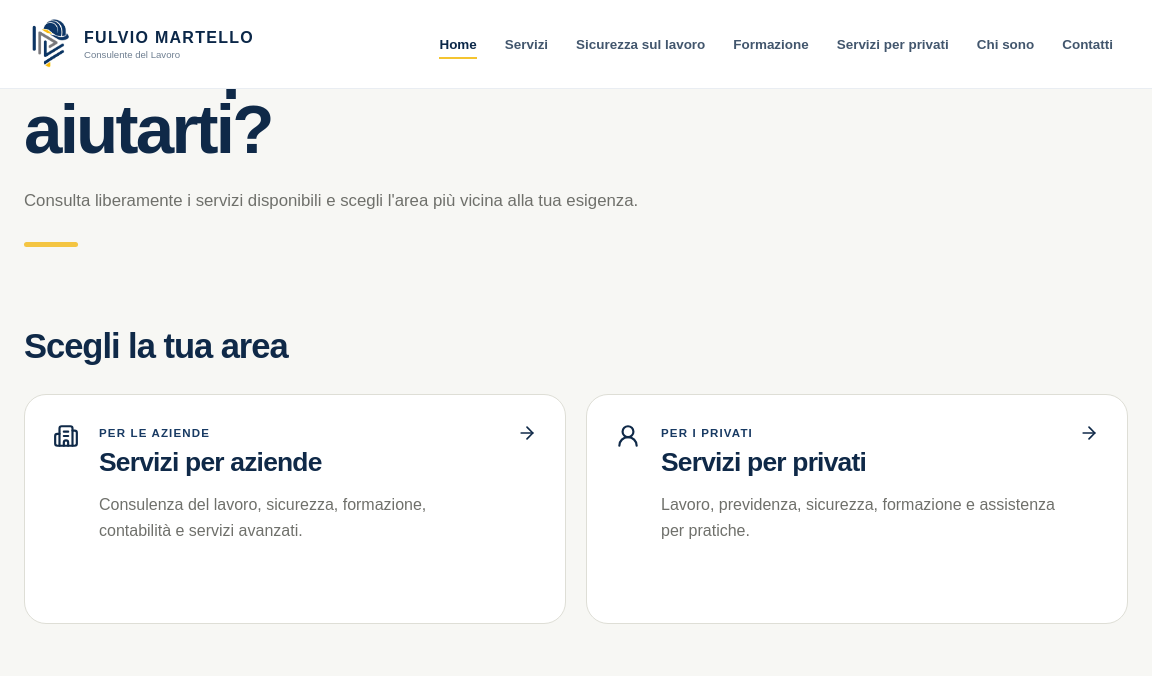
Test: ServicesPage › permette di selezionare Valutazione completa dei rischi aziendali
The image size is (1152, 676).
(page scrolled)
Step 1. Click the button "Servizi per aziende" → [295, 509], box [24, 394, 566, 624]
(page scrolled)
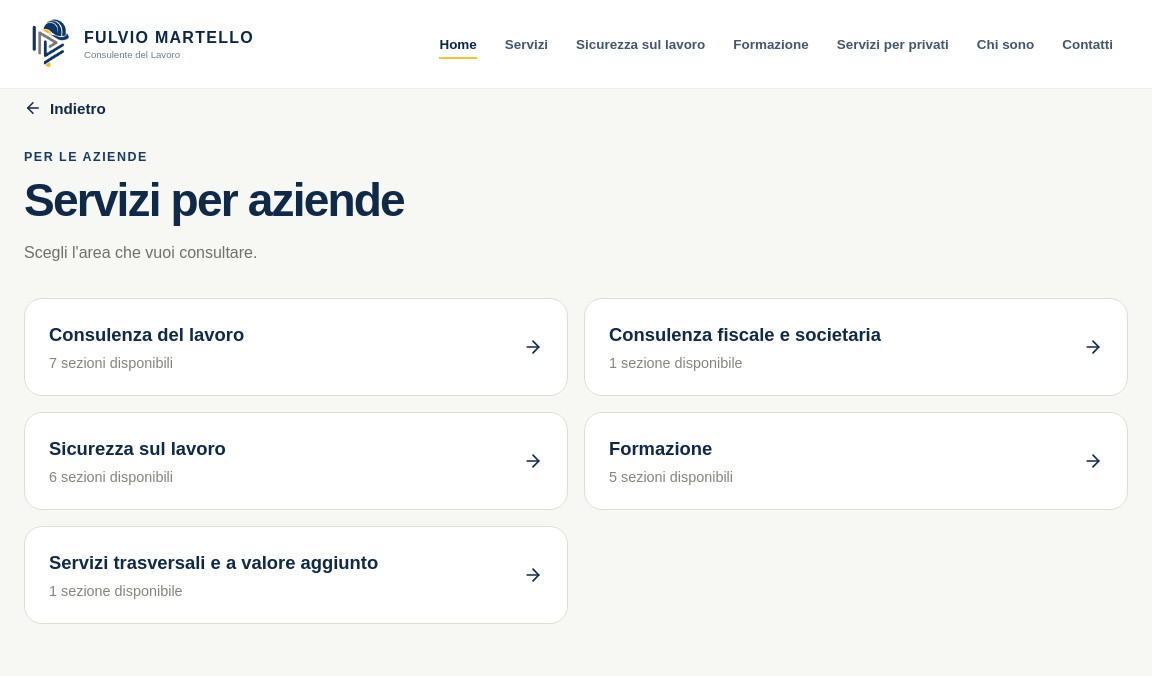
Step 2. Click the button "Sicurezza sul lavoro 6 sezioni disponibili" → [137, 448], box [24, 412, 568, 510]
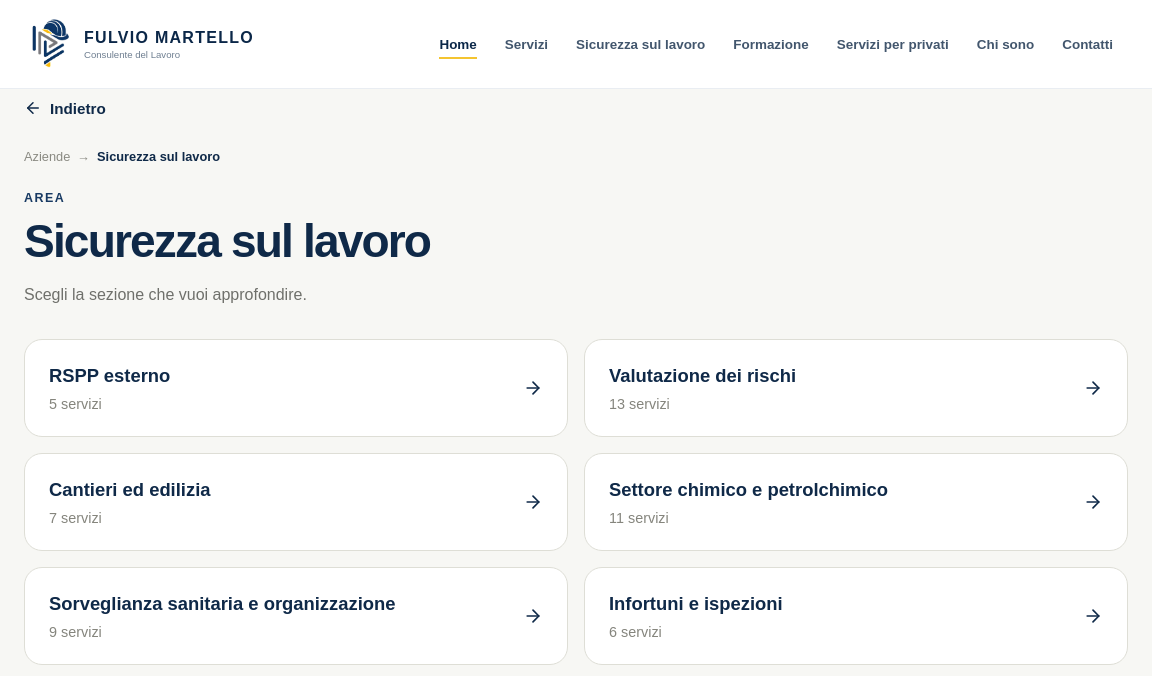
Step 3. Click the button "Valutazione dei rischi 13 servizi" → [703, 376], box [584, 339, 1128, 437]
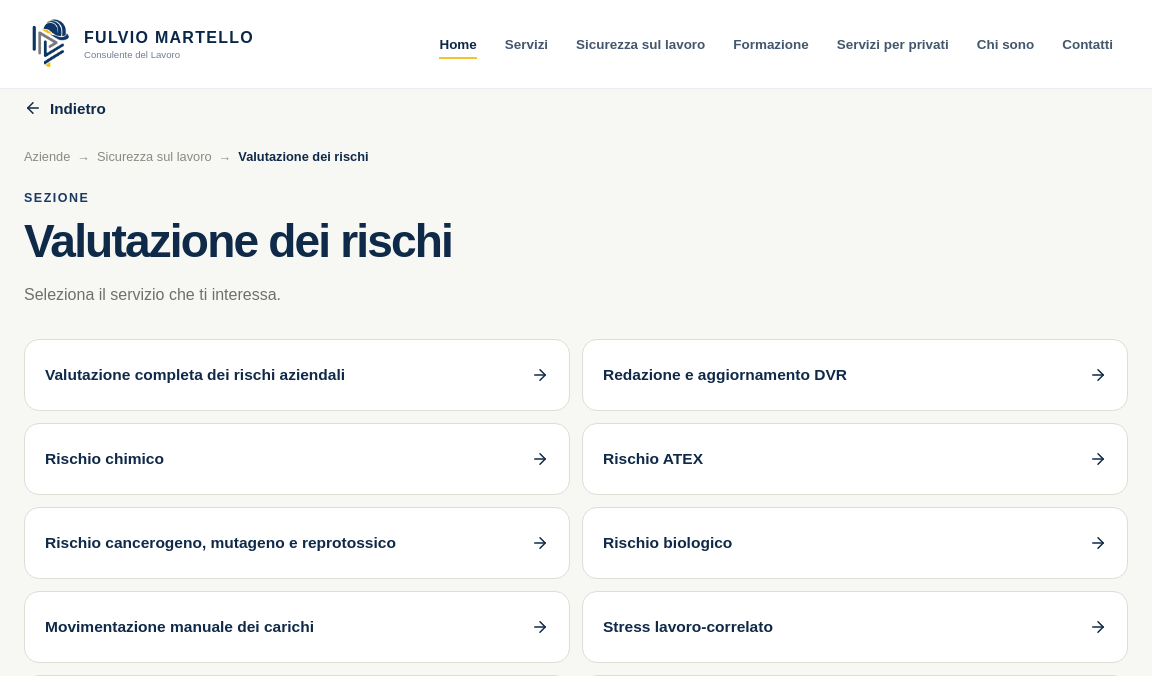
Step 4. Click the button "Valutazione completa dei rischi aziendali" → [297, 375], box [24, 339, 570, 411]
(page scrolled)
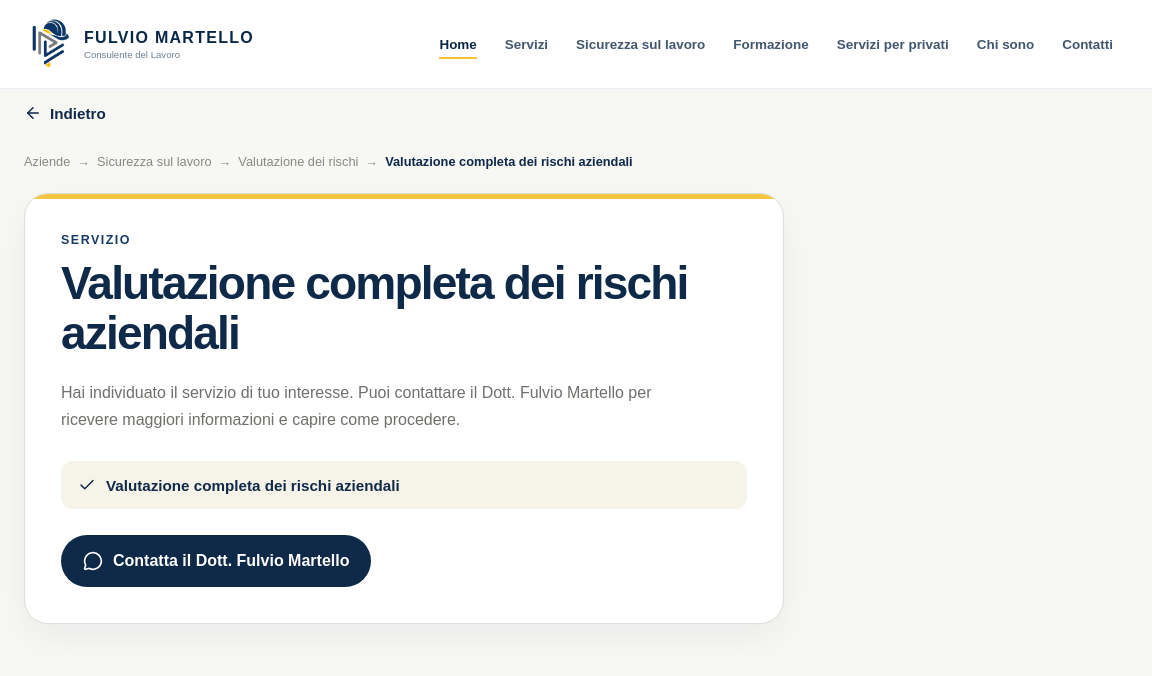
Check: the heading "Valutazione completa dei rischi aziendali" is shown, box [61, 259, 747, 359]
